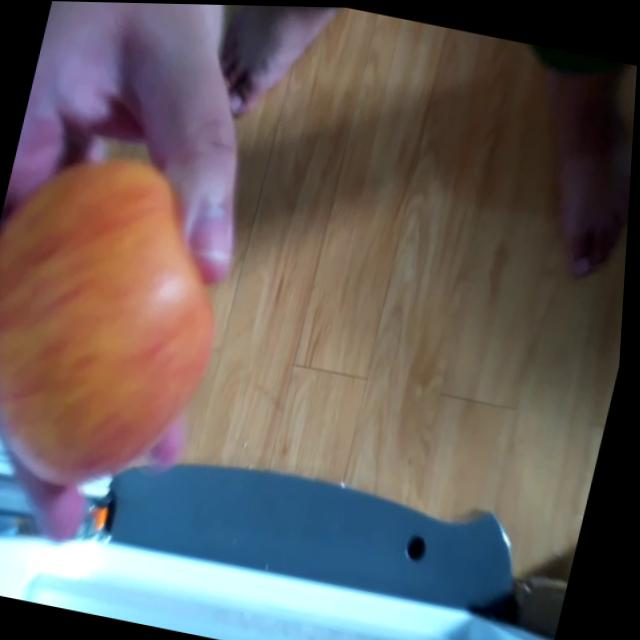apple: (0, 129, 257, 503)
